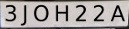character: (33, 4, 49, 22), (110, 4, 125, 22), (55, 4, 69, 22), (74, 3, 86, 22), (93, 4, 104, 22), (5, 4, 15, 22), (20, 4, 27, 26)
